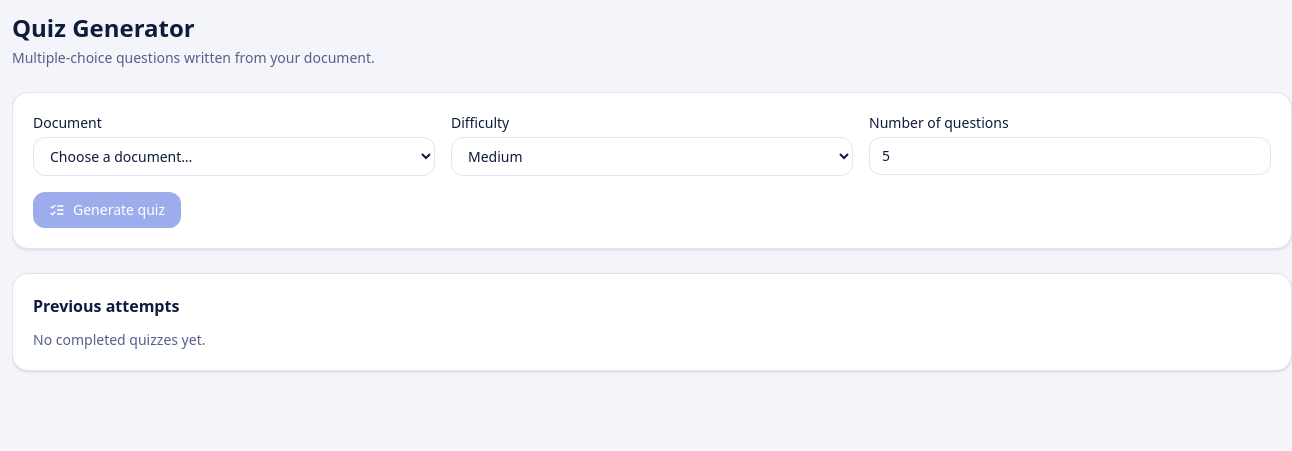
generation errors are shown
Select "biology.pdf" in the dropdown labelled "Document" at (234, 156), box x1=33 y1=137 x2=435 y2=176
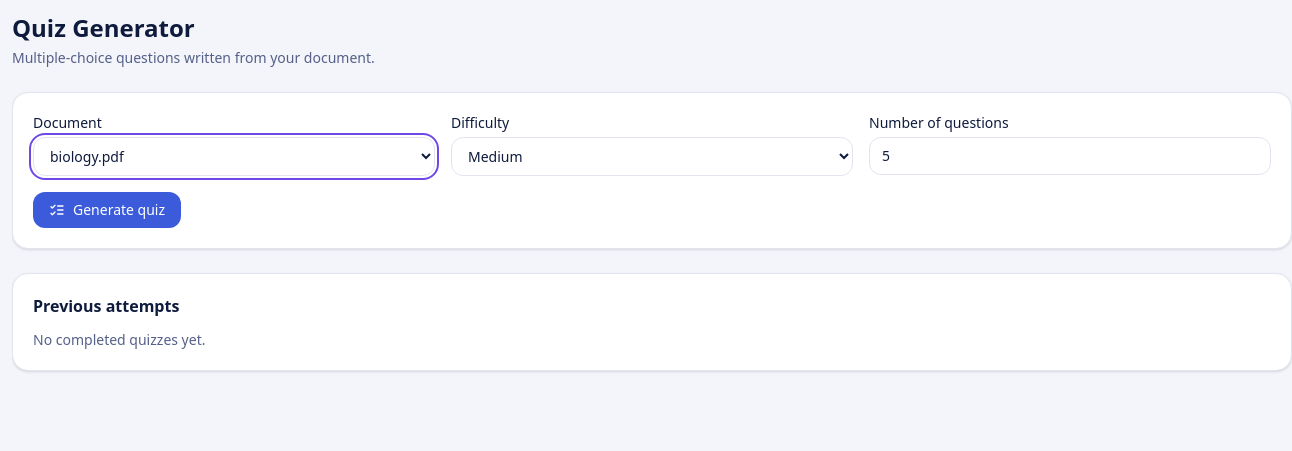
Click the button "Generate quiz" at (107, 210), box x1=33 y1=192 x2=181 y2=228
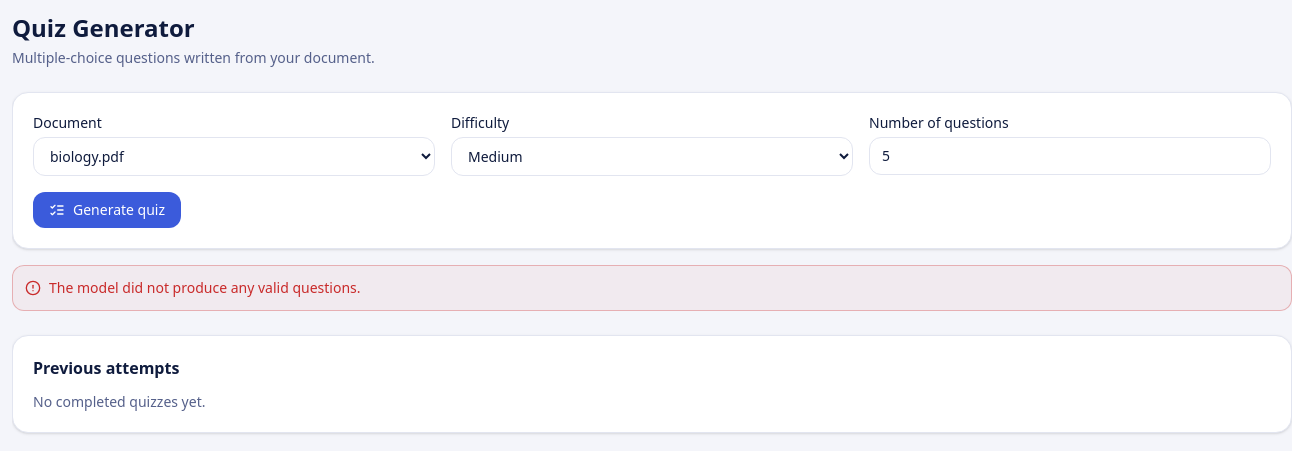
Now the message shows "did not produce any valid questions", box x1=49 y1=278 x2=360 y2=297
